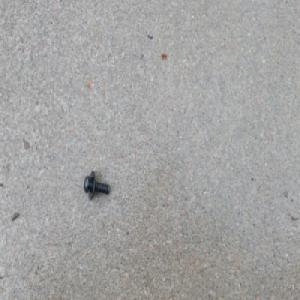BoltWasher: (83, 170, 110, 200)
